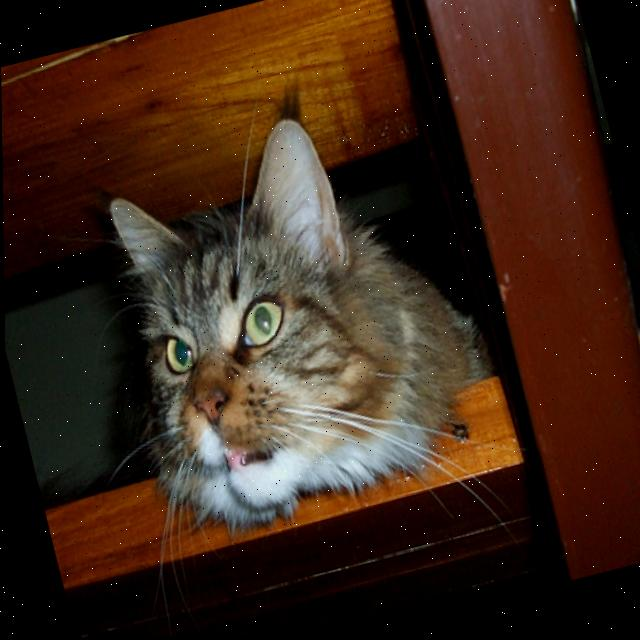Maine Coon: (71, 49, 519, 550)
